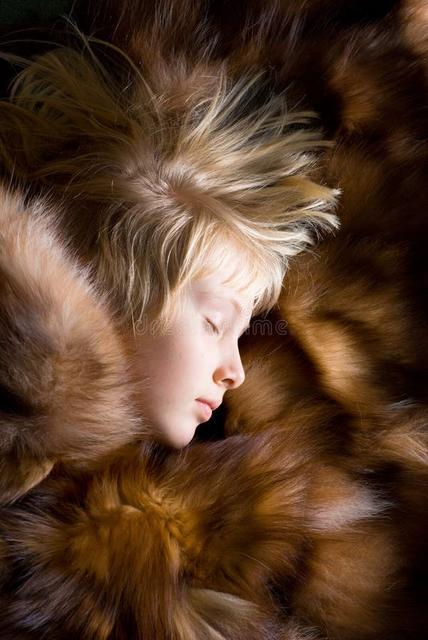sleep: (124, 227, 258, 448)
